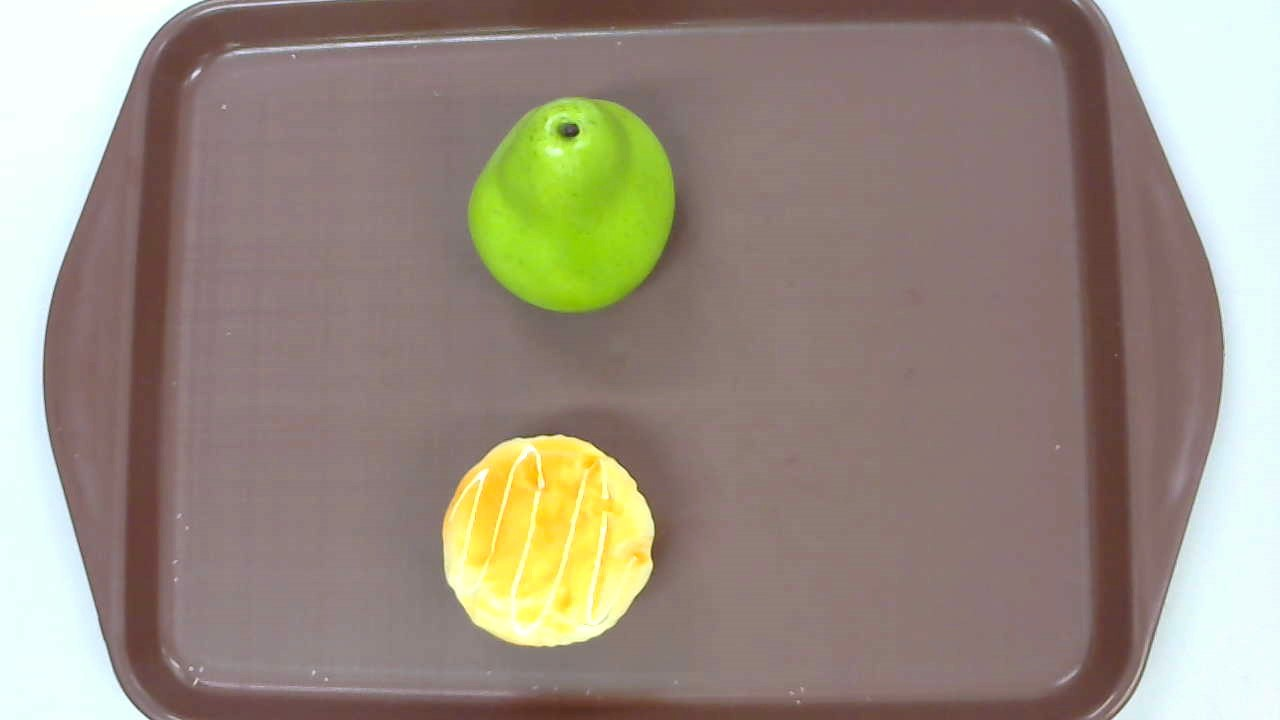cupcake: (442, 433, 656, 648)
green pear: (467, 97, 677, 312)
